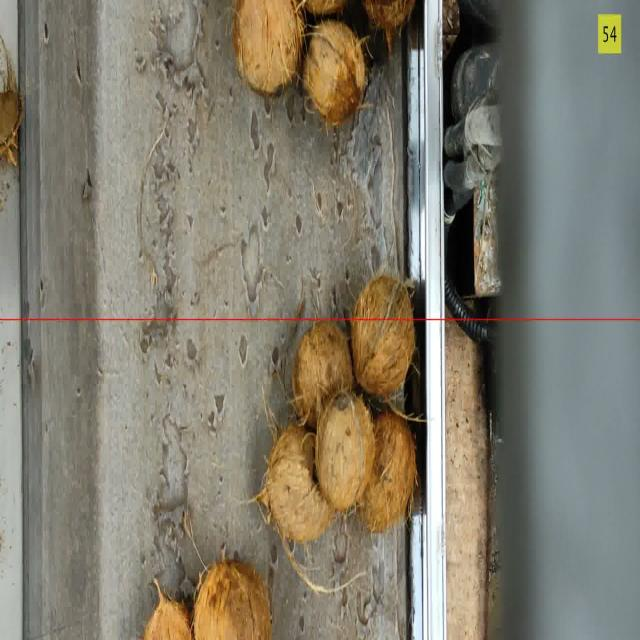Coconut-Conveyor-Belt: (265, 427, 335, 543), (355, 278, 416, 399), (306, 1, 363, 123), (316, 393, 372, 517), (233, 2, 304, 96), (358, 418, 415, 531), (196, 564, 272, 640), (296, 316, 348, 416), (147, 598, 192, 640), (366, 0, 406, 40)
